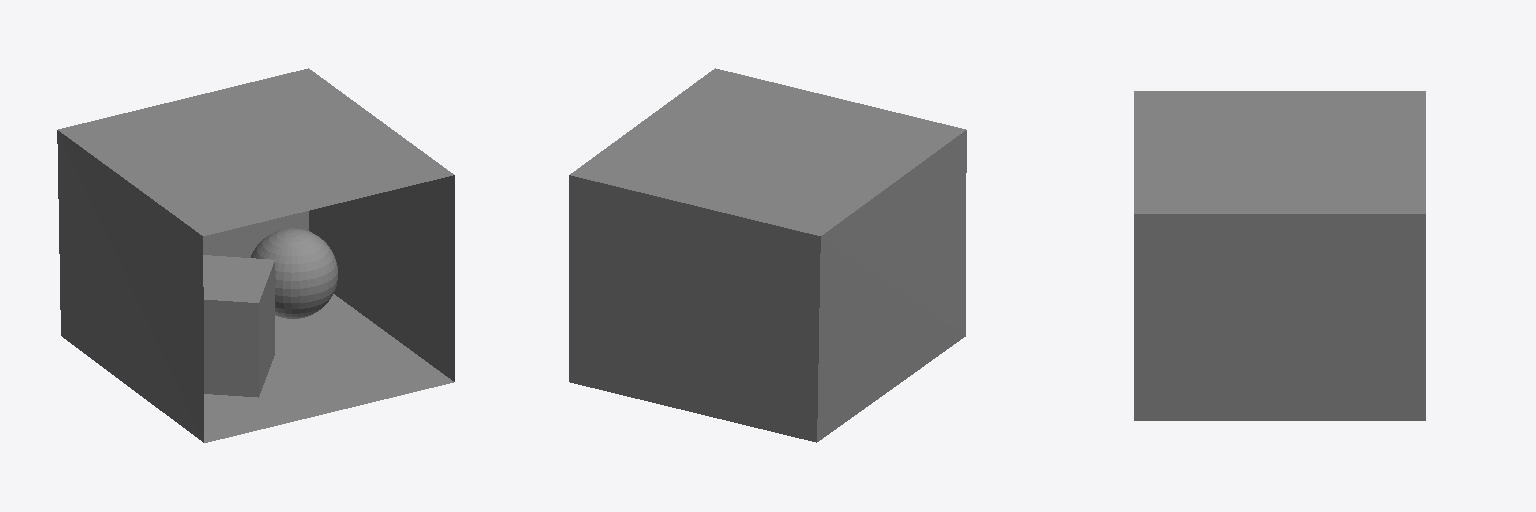
File: Glossy.obj
3 renders of one model, left to right at view 1: azimuth 30°, elevation 25°; view 2: azimuth 150°, elevation 25°; view 3: azimuth 270°, elevation 25°, orthographic.
Visible parts, largest first — view 1: g g ceiling_g ceiling_g g ceiling_g ceiling, g g leftWall_Material__25_Material__25, g g rightWall_Material__47_Material__47, g g floor_g floor_g g floor_g floor, g g shortBox_Material__49_Material__49, g g sphere_Material__48_Material__48, g g backWall_g backWall_g g backWall_g backWall; view 2: g g backWall_g backWall_g g backWall_g backWall, g g ceiling_g ceiling_g g ceiling_g ceiling, g g leftWall_Material__25_Material__25; view 3: g g rightWall_Material__47_Material__47, g g ceiling_g ceiling_g g ceiling_g ceiling.
Boxes of the visible parts, box(x1,y1,x2,y2) form: g g ceiling_g ceiling_g g ceiling_g ceiling: box(58, 68, 453, 235); g g leftWall_Material__25_Material__25: box(57, 130, 203, 442); g g rightWall_Material__47_Material__47: box(309, 175, 454, 381); g g floor_g floor_g g floor_g floor: box(204, 294, 453, 442); g g shortBox_Material__49_Material__49: box(203, 255, 274, 397); g g sphere_Material__48_Material__48: box(251, 228, 337, 318); g g backWall_g backWall_g g backWall_g backWall: box(203, 211, 308, 257); g g backWall_g backWall_g g backWall_g backWall: box(569, 175, 820, 442); g g ceiling_g ceiling_g g ceiling_g ceiling: box(570, 68, 965, 235); g g leftWall_Material__25_Material__25: box(817, 130, 966, 441); g g rightWall_Material__47_Material__47: box(1134, 214, 1425, 420); g g ceiling_g ceiling_g g ceiling_g ceiling: box(1134, 91, 1425, 213).
Bounding box in the file's own units: 2.02 × 1.59 × 2.03.